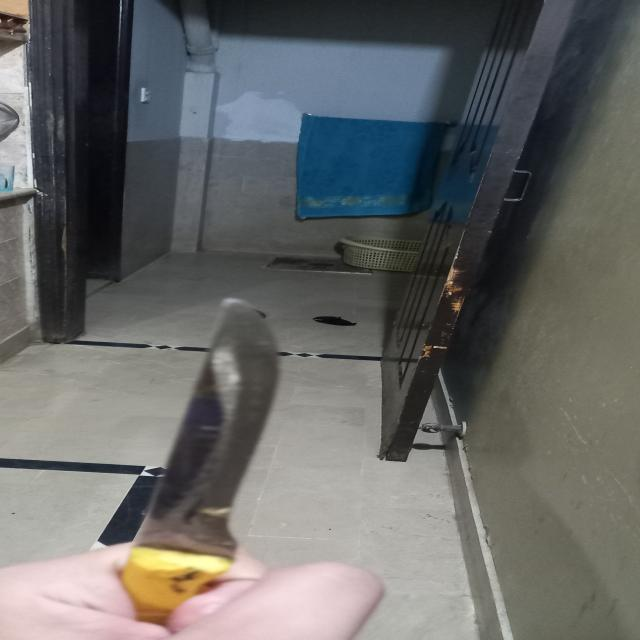senjata_tajam: (124, 293, 292, 582)
